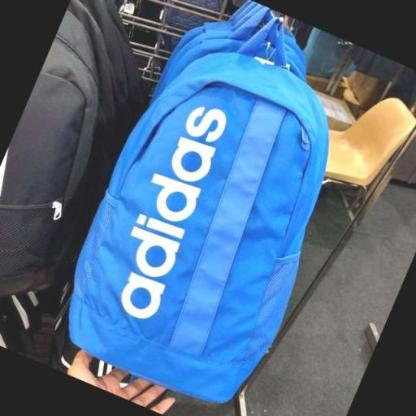bag: (57, 2, 329, 405)
